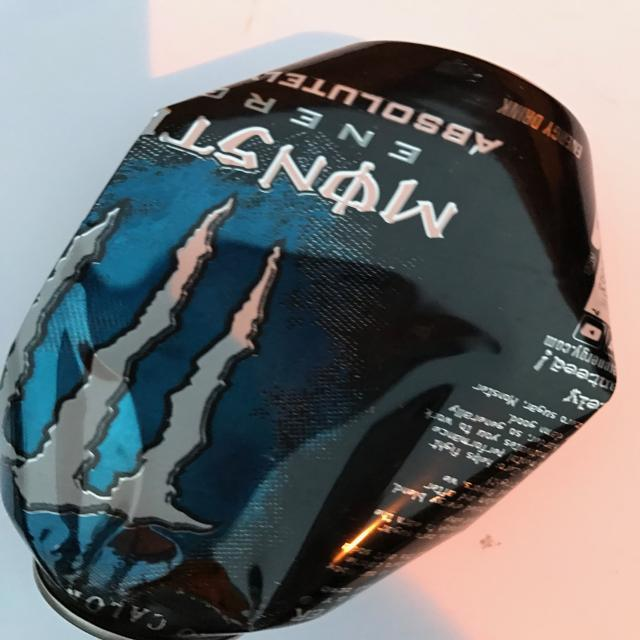metal: (0, 40, 617, 640)
